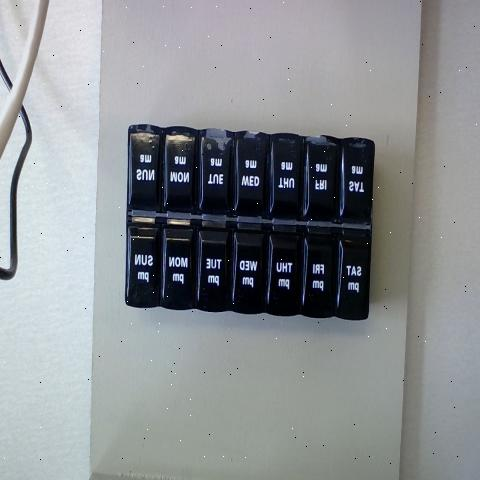FRI-am: (306, 136, 338, 222)
FRI-pm: (302, 230, 340, 318)
MON-am: (164, 130, 198, 212)
MON-pm: (161, 223, 195, 308)
PillBox: (108, 93, 397, 366)
SAT-am: (341, 140, 373, 224)
SAT-pm: (337, 232, 370, 319)
SUN-am: (128, 125, 160, 212)
SUN-pm: (127, 218, 161, 303)
THU-am: (272, 136, 303, 216)
THU-pm: (267, 226, 306, 316)
TUE-am: (200, 128, 234, 214)
TUE-pm: (197, 223, 232, 309)
WED-am: (236, 133, 270, 219)
WED-pm: (232, 227, 266, 310)
